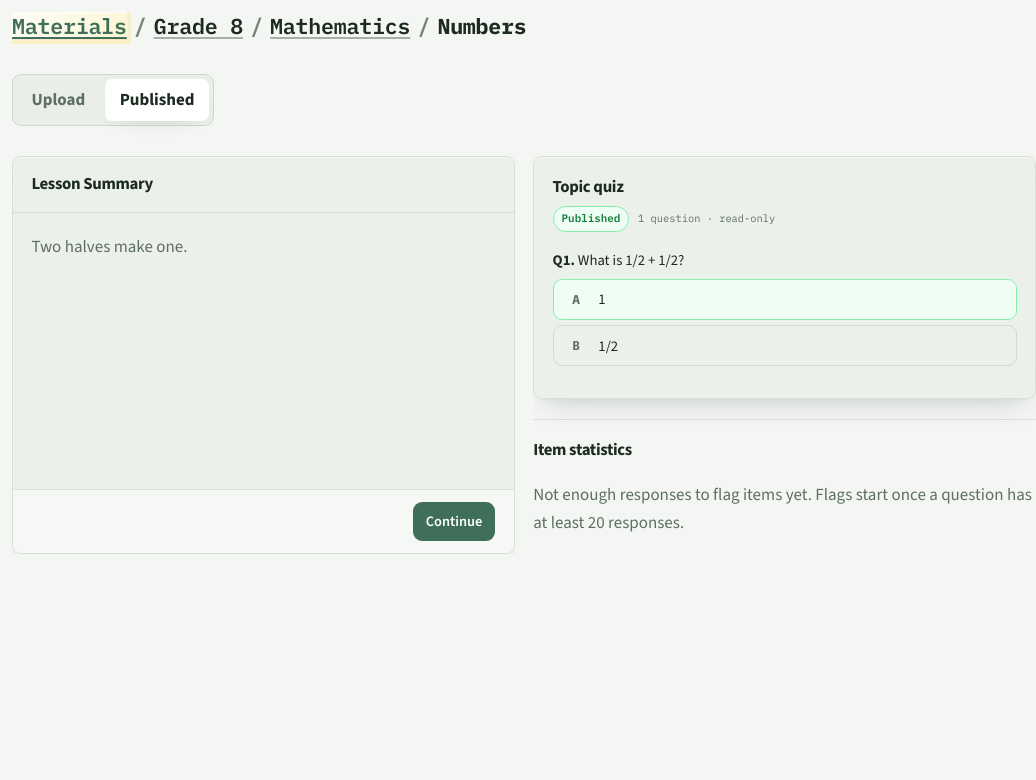
it: AdminMaterialsTopicDetailPage › opens published lesson and quiz immediately without a catalog row
Expected: the heading "Lesson Summary" is shown, [31,172,153,194]
Expected: the text "Two halves make one." is shown, [31,234,188,258]
Click the button "Continue" at (454, 522), box [413,502,495,541]
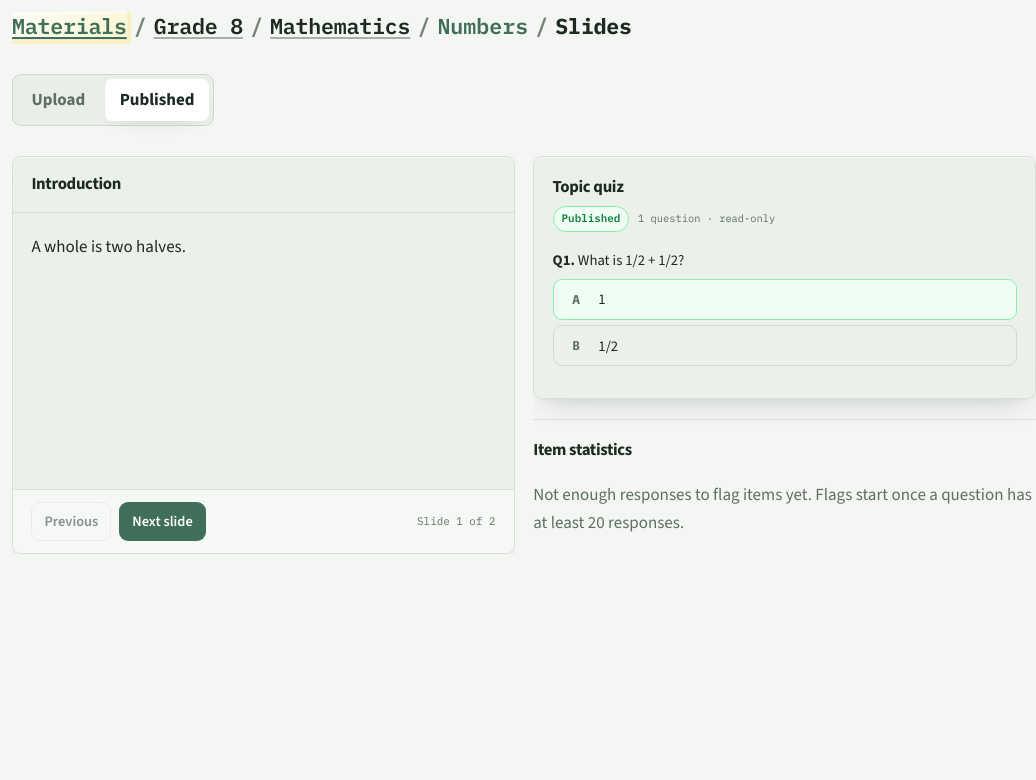
Result: the heading "Introduction" is shown at [31,172,121,194]
Result: the text "A whole is two halves." is shown at [31,234,186,258]
Result: the button "Next slide" is shown
Click the button "Next slide" at (163, 522), box [119,502,206,541]
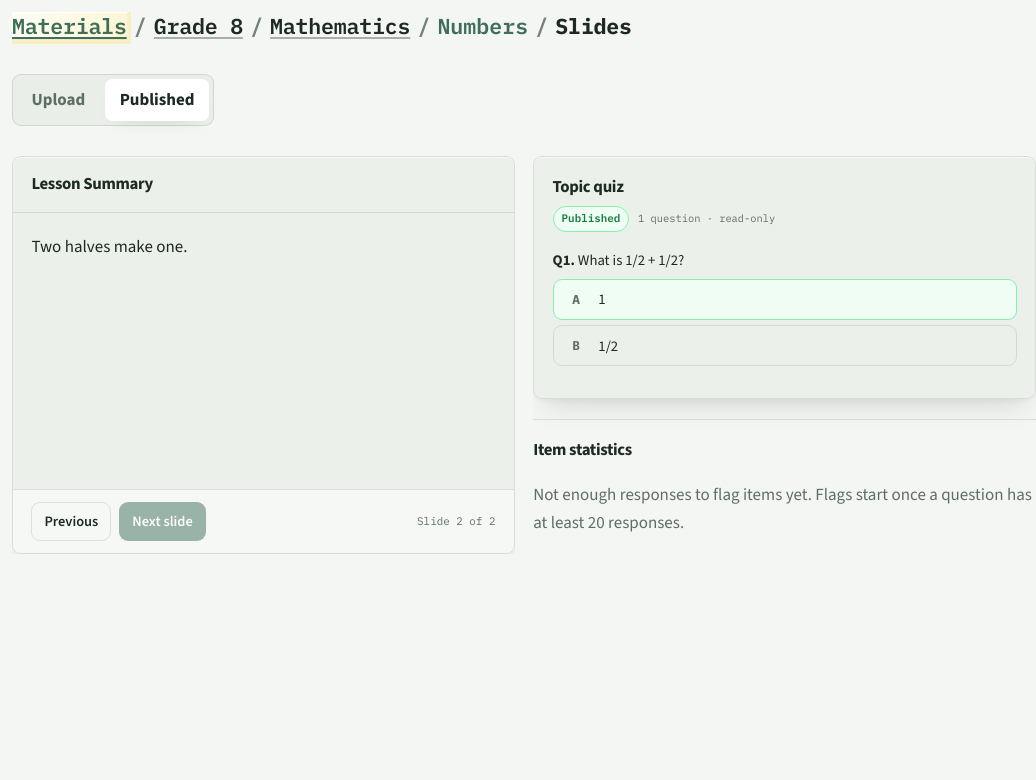
Result: the heading "Lesson Summary" is shown at [31,172,153,194]
Result: the button "Next slide" is disabled at [119,502,206,541]
